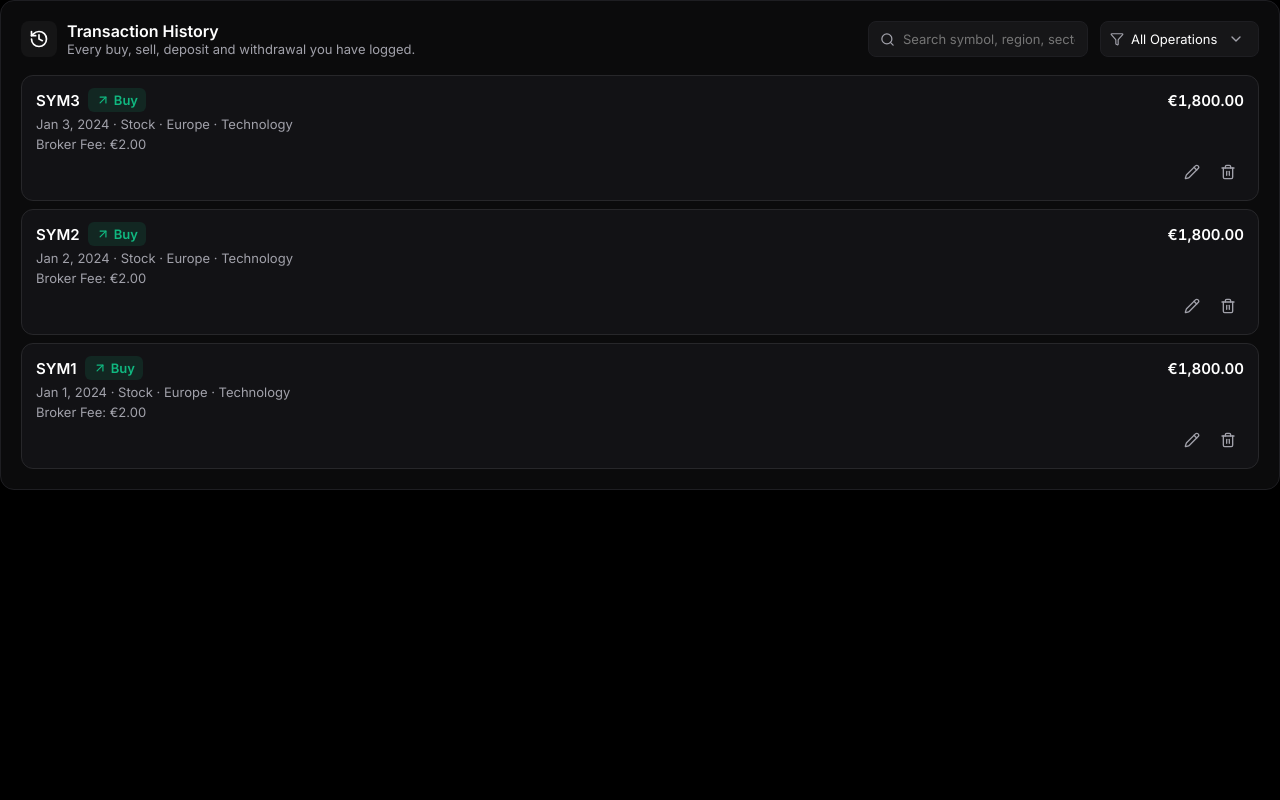
removing a transaction › says so and reloads the list when the transaction is already gone
Click the button named "Delete Buy SYM1, Jan 1, 2024": (1228, 440) [1212,424,1244,456]
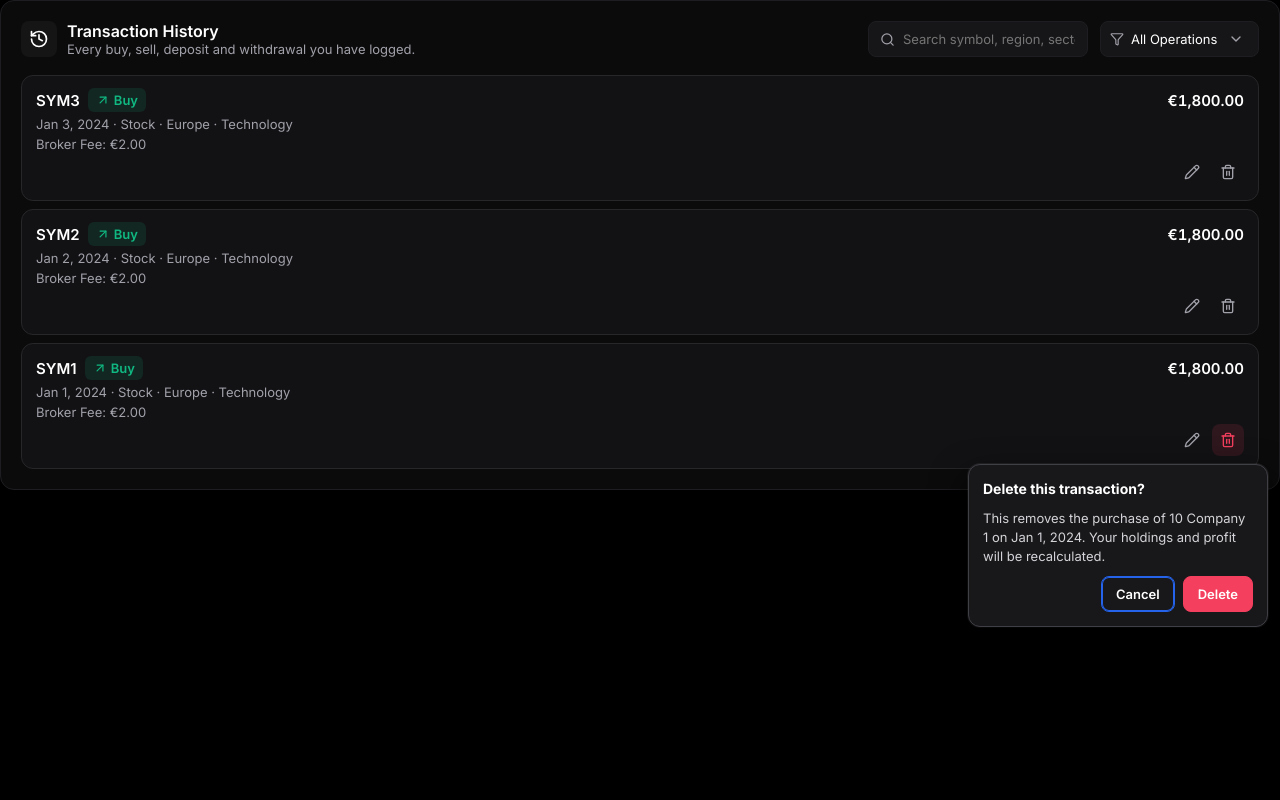
Click the button "Delete": (1218, 594) [1183,576,1253,612]
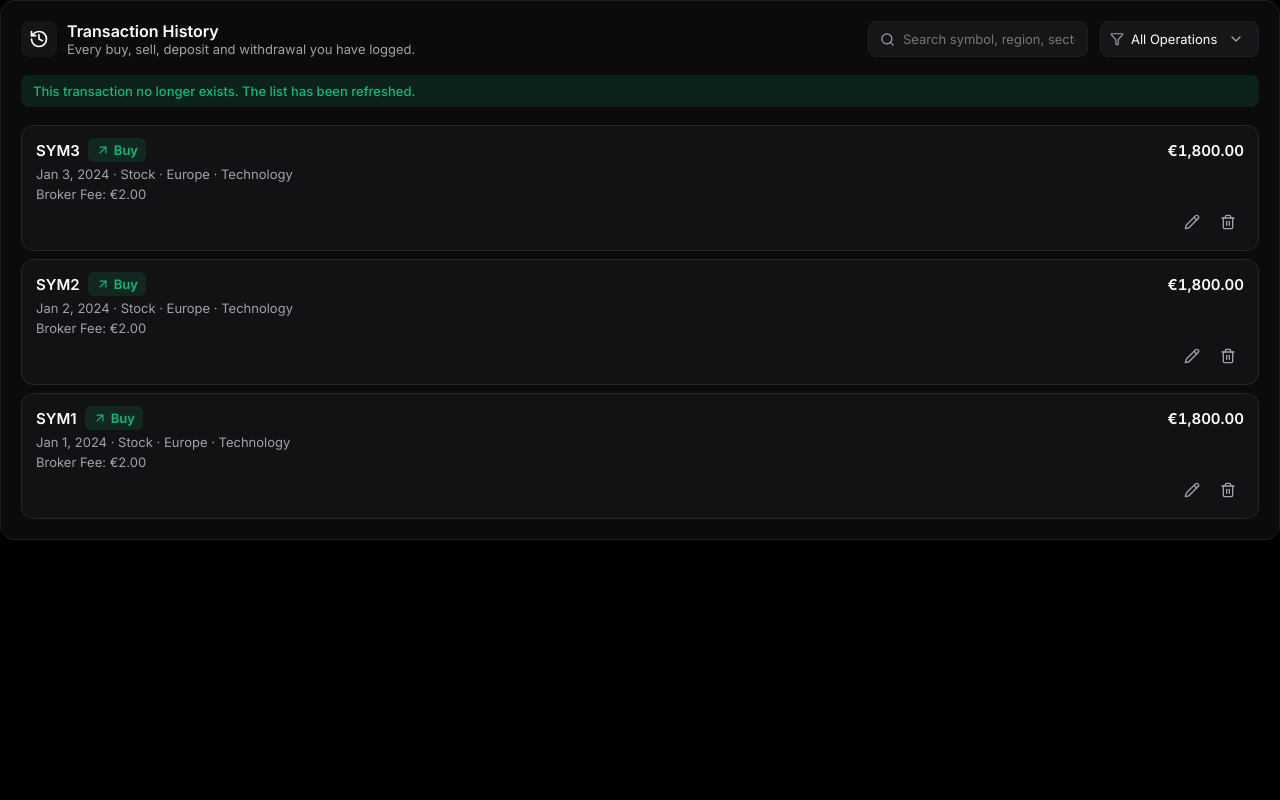
Check: the message reads "This transaction no longer exists. The list has been refreshed.", box [33,83,415,99]
